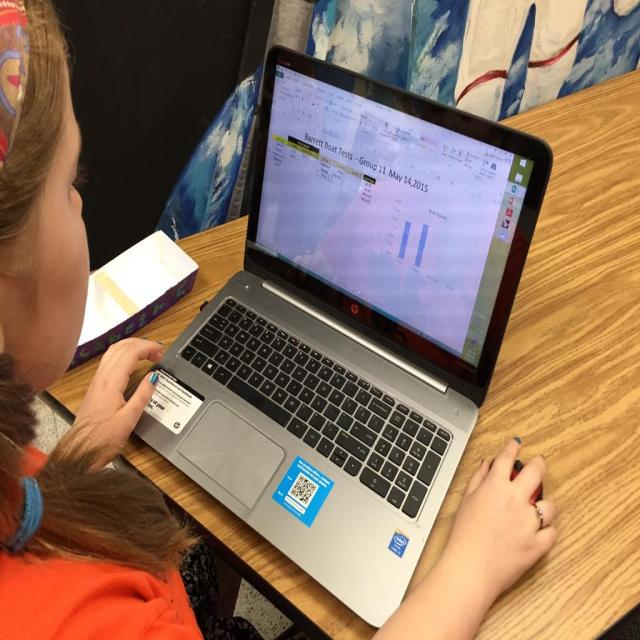laptop: (124, 40, 555, 630)
